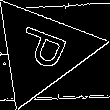P_E: (10, 24, 74, 77)
